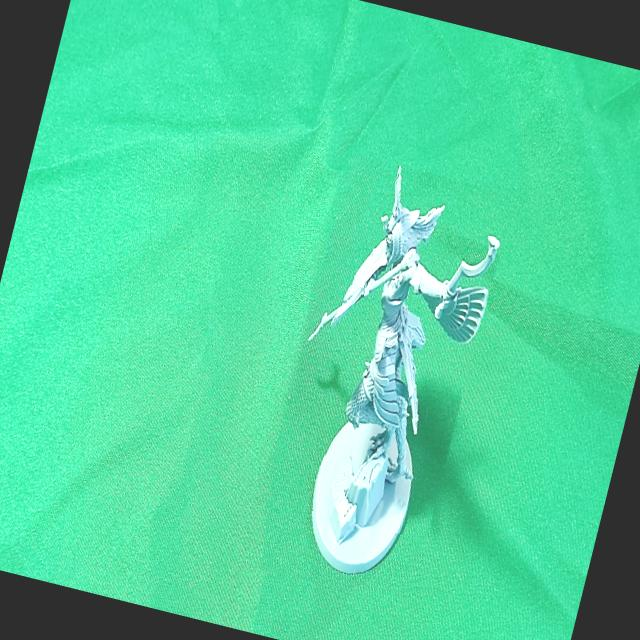isis: (246, 153, 514, 607)
